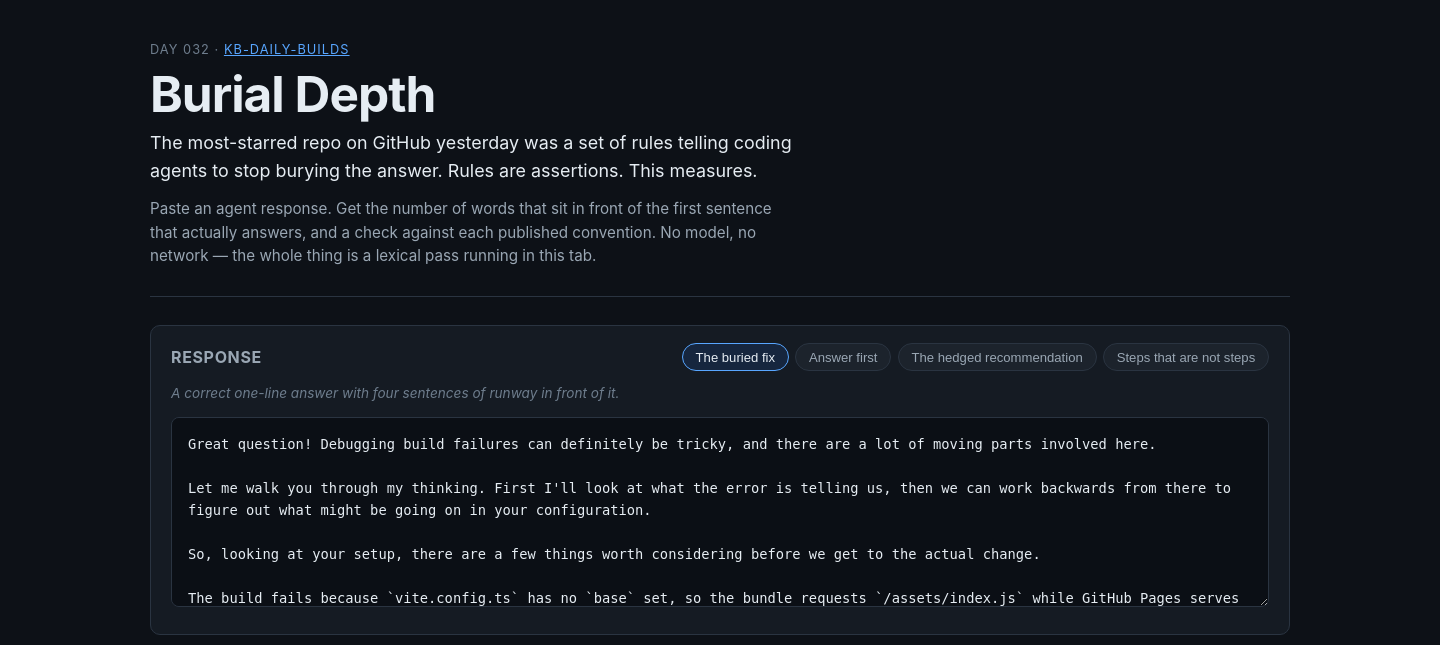
Test: App › drops the sample note once the text is edited by hand
The width and height of the screenshot is (1440, 645).
Replace the text in the text box named "response to analyse" with "Run `npm ci`.". click: (720, 512)
box: [171, 417, 1269, 607]
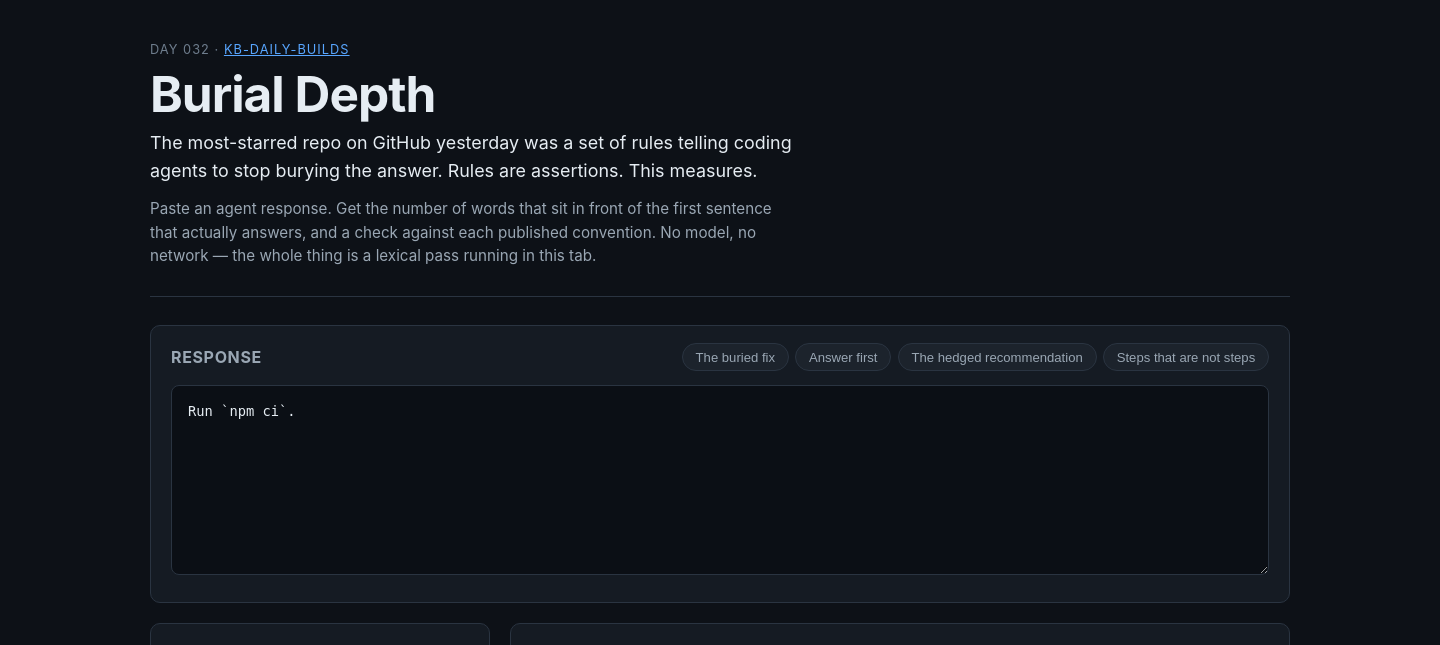
Expected: the text "A correct one-line answer with four sentences of runway in front of it." is gone
